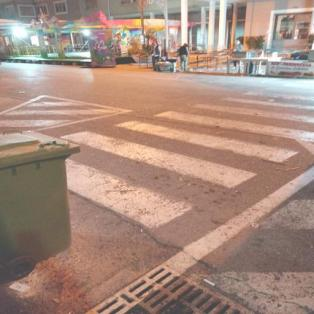Paso de Cebra: (110, 104, 314, 167)
